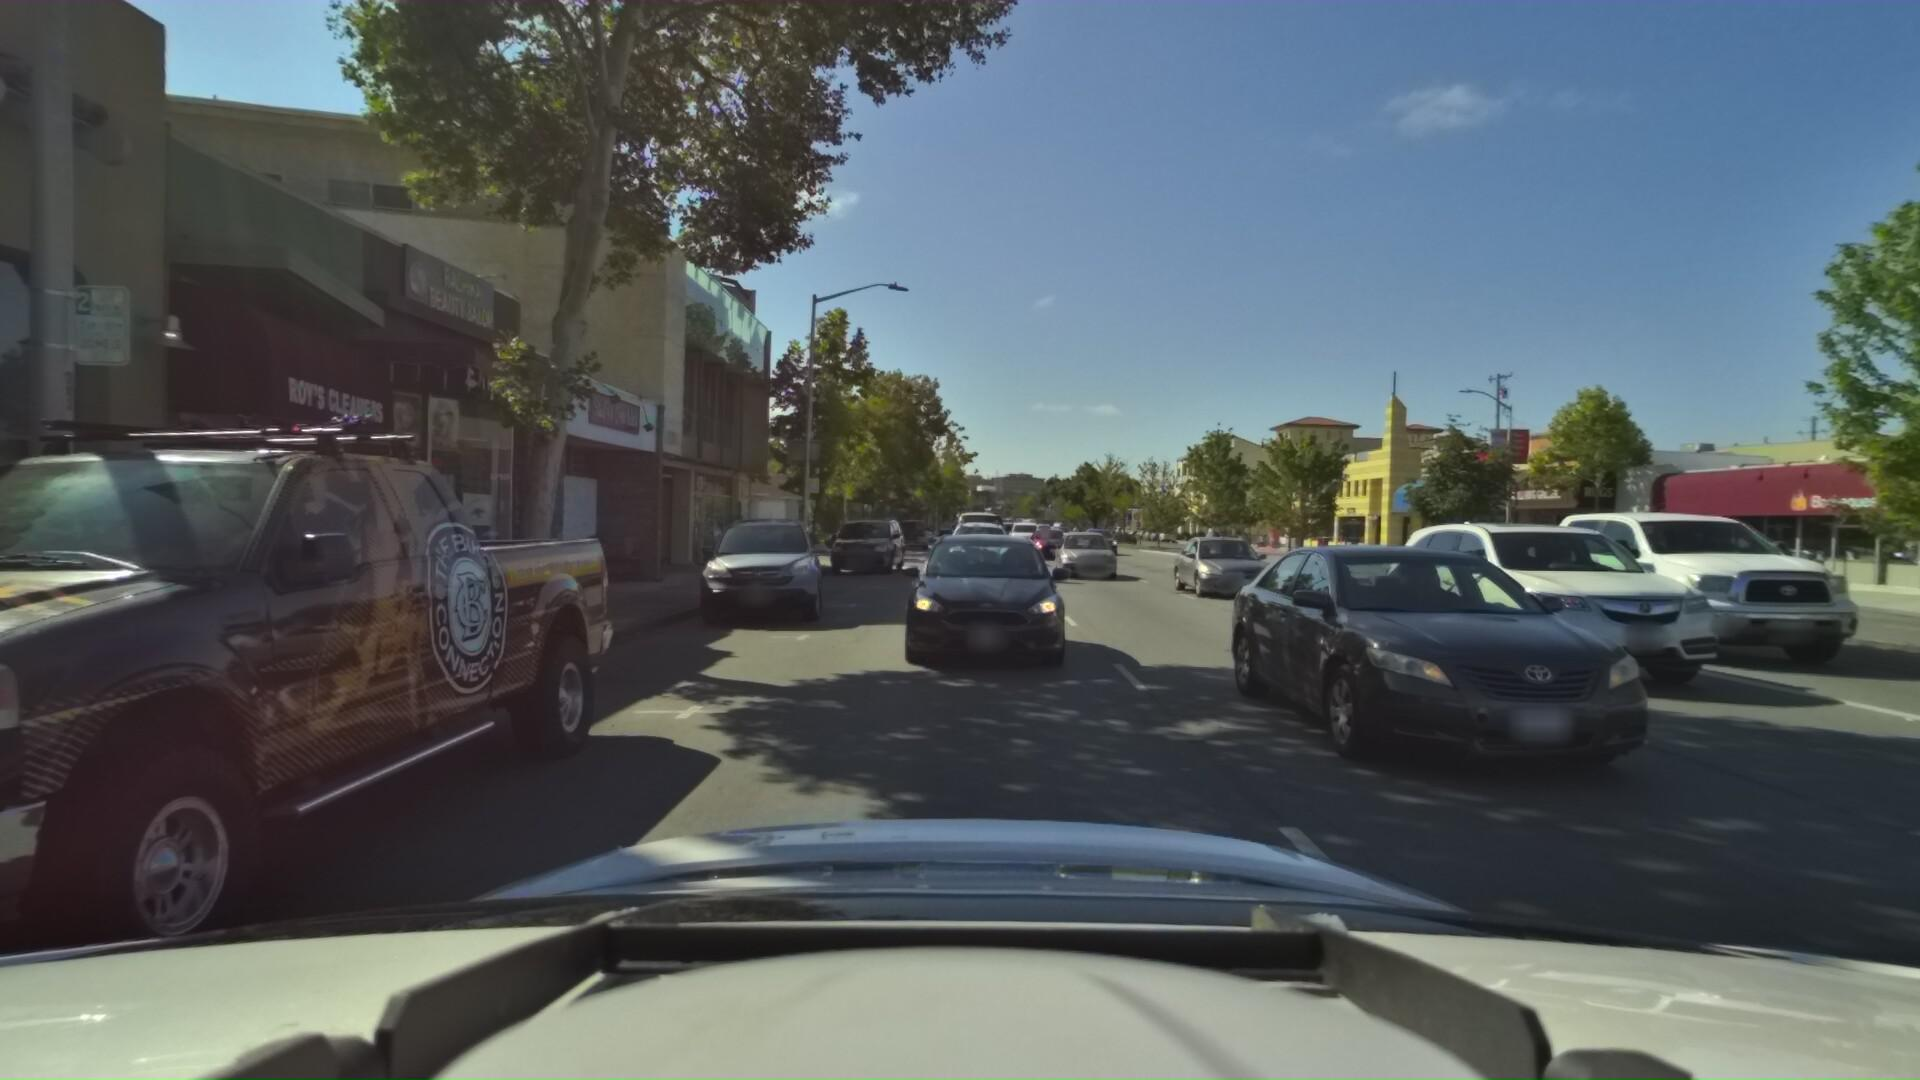car: (0, 291, 658, 1080), (1193, 516, 1647, 771), (1466, 487, 1857, 665), (1361, 512, 1725, 690), (884, 524, 1065, 684), (698, 508, 825, 636), (1163, 530, 1274, 604), (822, 516, 907, 578), (938, 520, 1013, 589), (949, 497, 1011, 560), (1048, 525, 1121, 579), (1021, 526, 1072, 564), (1081, 524, 1126, 556), (891, 516, 932, 551), (1007, 516, 1040, 545)
